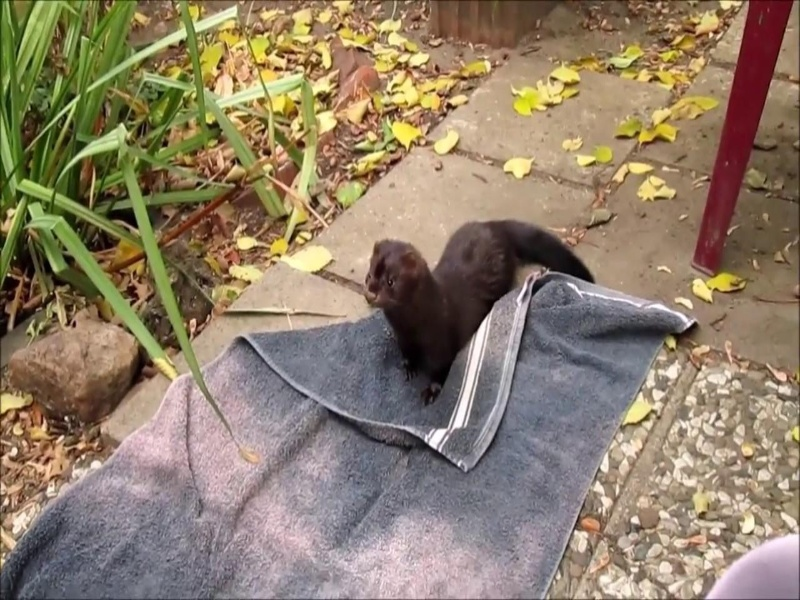minkish: (359, 216, 602, 408)
